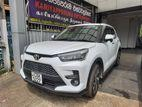car: (19, 24, 121, 99)
